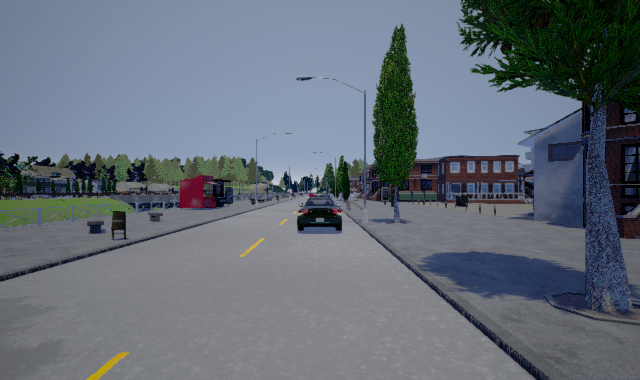vehicle: (297, 192, 342, 231)
